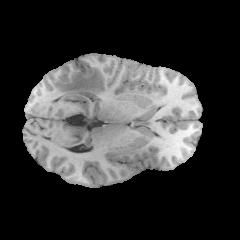glioma: (52, 62, 105, 101)
